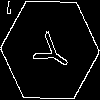Y: (25, 25, 75, 78)
